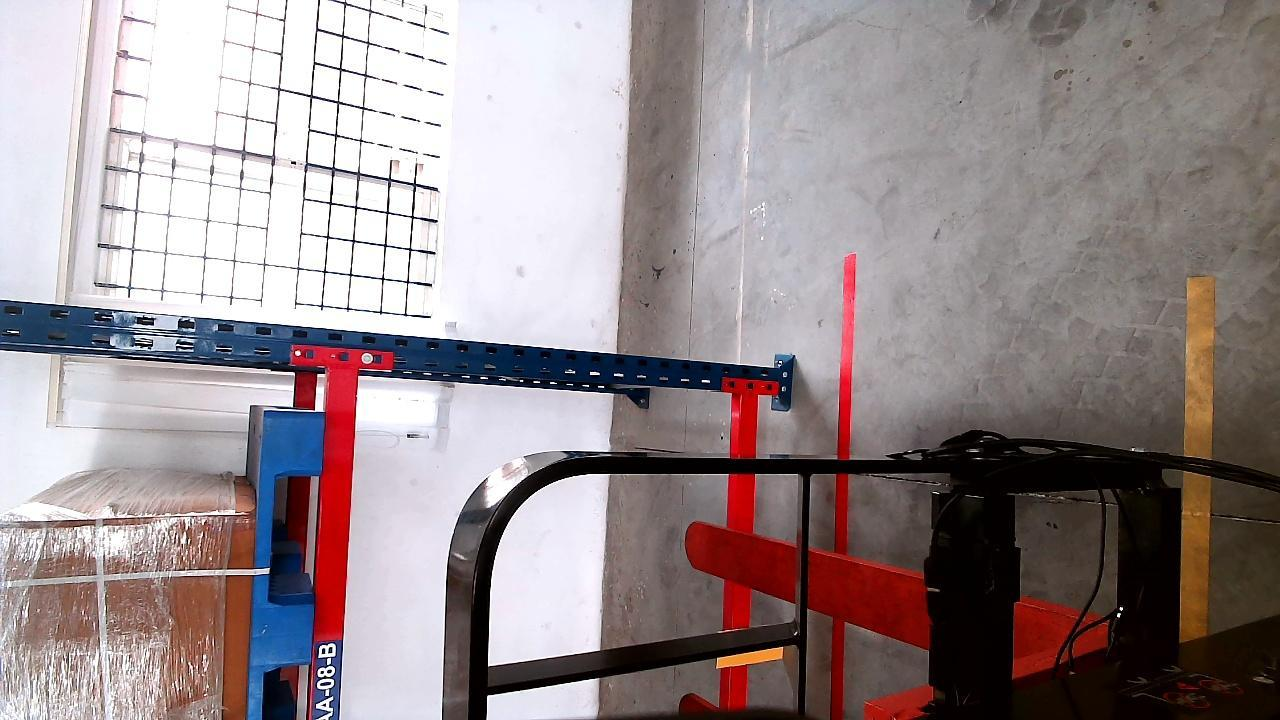red_line: (835, 254, 858, 553)
yellow_line: (1182, 259, 1213, 663)
